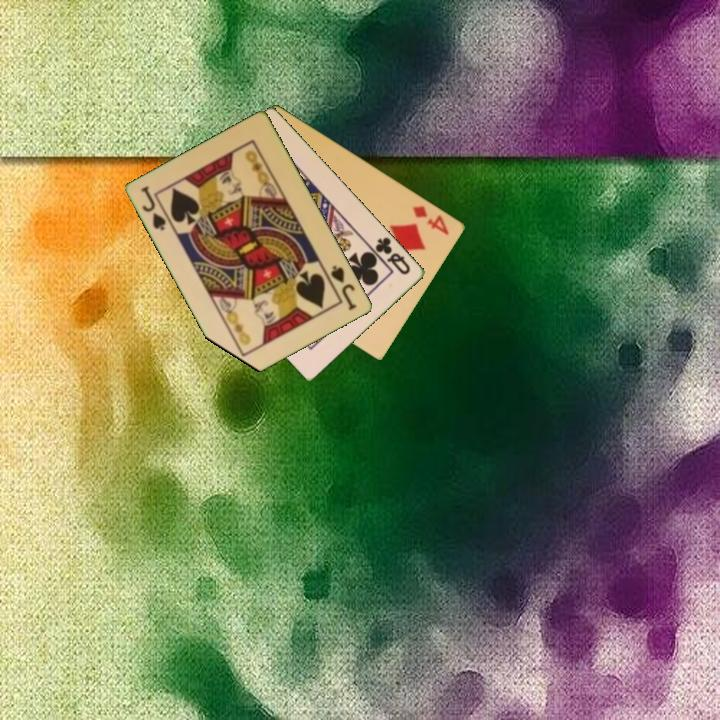4d: (409, 202, 452, 238)
Js: (137, 182, 169, 234), (328, 262, 360, 313)
Qc: (367, 233, 414, 278)
